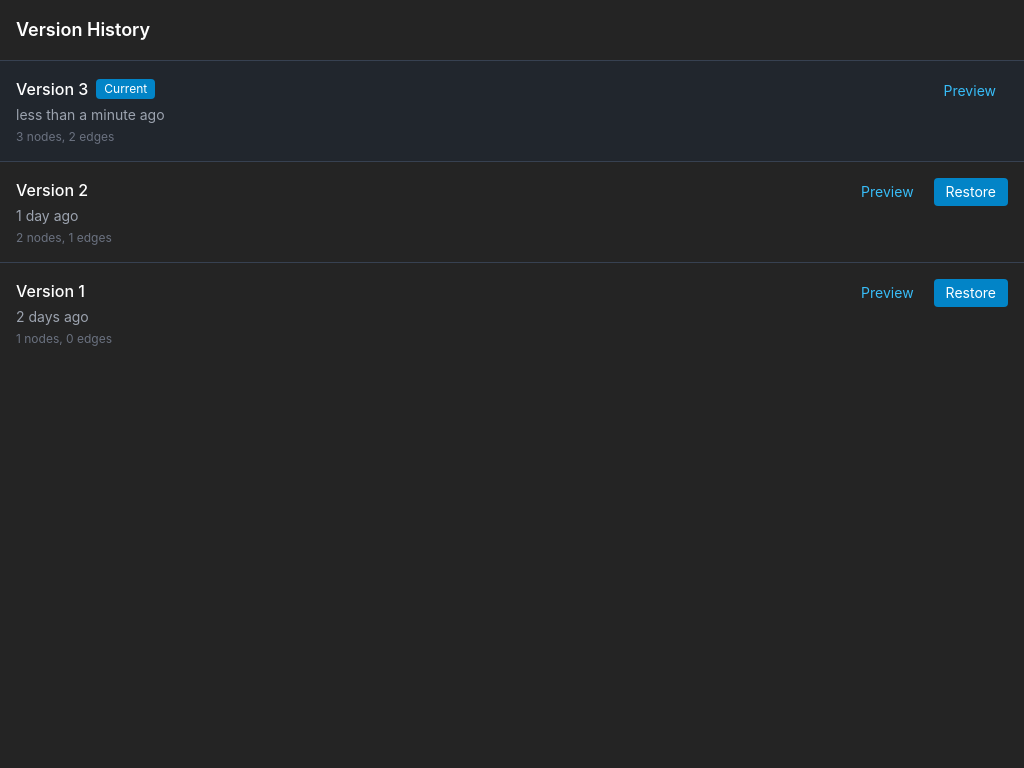
VersionHistory › preview modal › should close preview modal when clicking backdrop
Check: the text "Version 2" is shown, box [16,178,88,202]
Click the 2nd button "Preview".
click(887, 192)  # box [849,178,926,206]
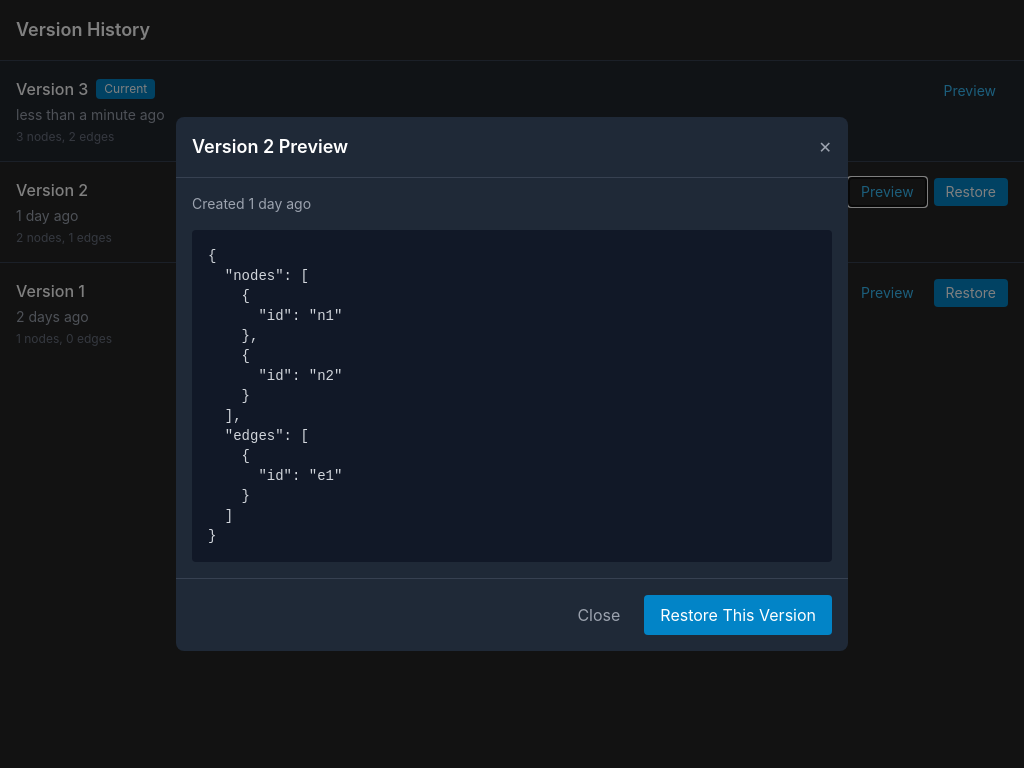
Check: the heading "Version 2 Preview" is shown, box [192,133,348,161]
Click the element with class "inset-0".
click(61, 384)  # box [0,0,1023,767]
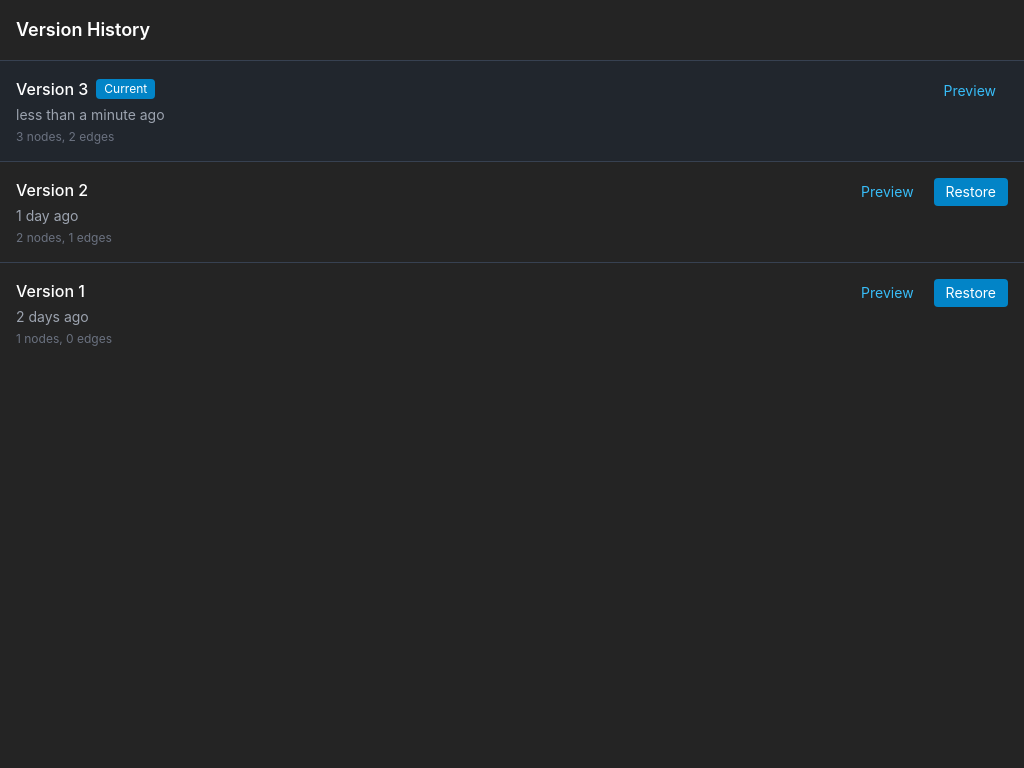
Check: the heading "Version 2 Preview" is gone
